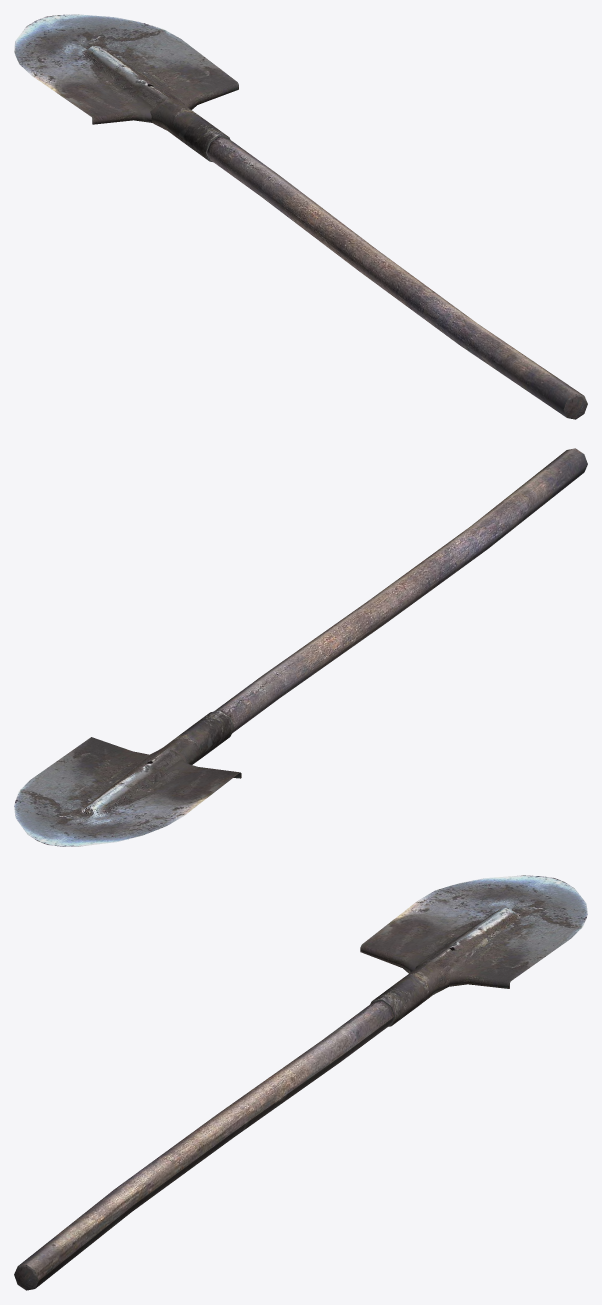
Rendered from Shovel.obj.
3 views of the same model, one above another, from view 1: azimuth 30°, elevation 25°; view 2: azimuth 150°, elevation 25°; view 3: azimuth 330°, elevation 25° (orthographic).
Visible parts, largest first — view 1: Box02; view 2: Box02; view 3: Box02.
Part boxes in pixels (box(x1,y1,x2,y2)): Box02: box(14, 14, 587, 419); Box02: box(14, 448, 587, 846); Box02: box(14, 875, 587, 1290).
Size of the model in its own units: 0.5987 by 0.1058 by 3.63.
Materials: 2 (2 with a texture image).
